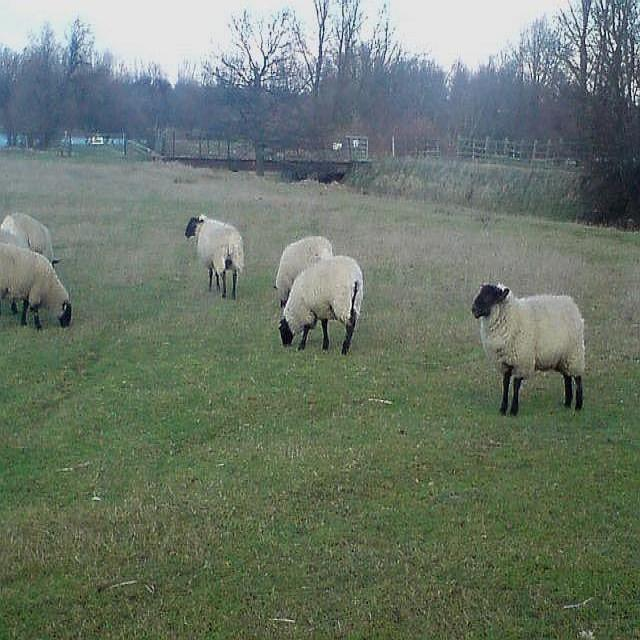Sheep: (471, 282, 587, 418), (281, 256, 364, 360), (0, 245, 72, 334), (184, 215, 246, 300), (272, 236, 332, 309), (0, 213, 63, 272)
